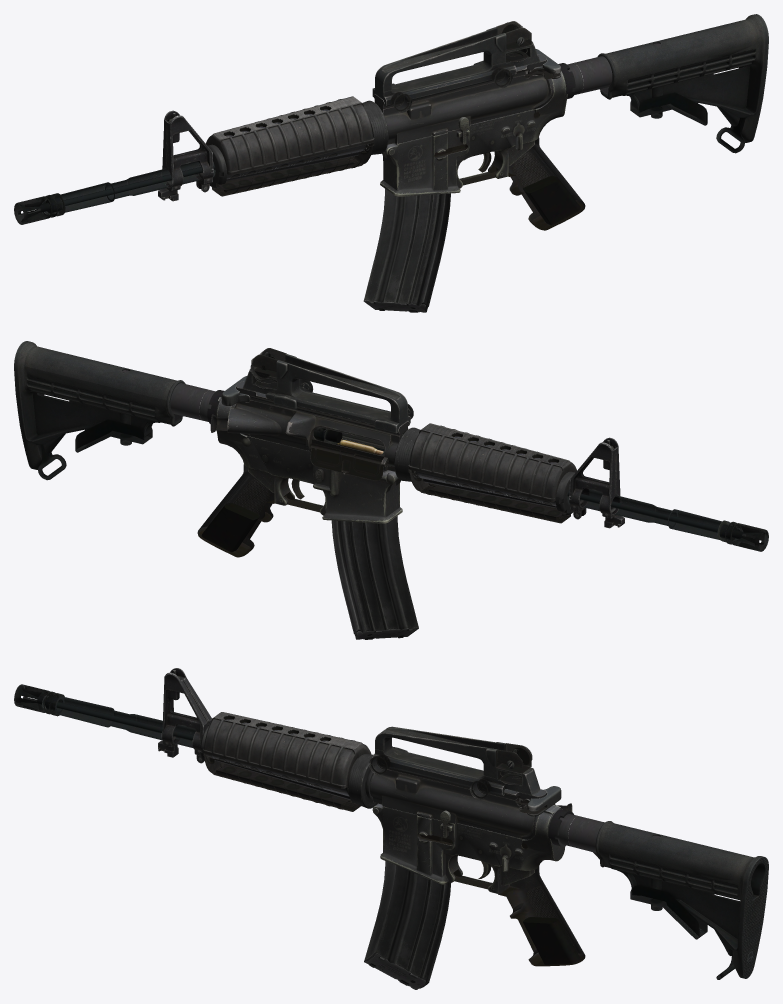
3 views of the same model, one above another, from view 1: azimuth 30°, elevation 25°; view 2: azimuth 150°, elevation 25°; view 3: azimuth 330°, elevation 25° (orthographic).
Visible parts, largest first — view 1: m4; view 2: m4; view 3: m4.
Part boxes in pixels (x1,y1,x2,y2): m4: [14, 14, 768, 312]; m4: [14, 341, 768, 639]; m4: [14, 668, 768, 989].
Bounding box in the file's own units: 0.8151 × 0.2742 × 0.0726.
16 materials, 16 textured.
